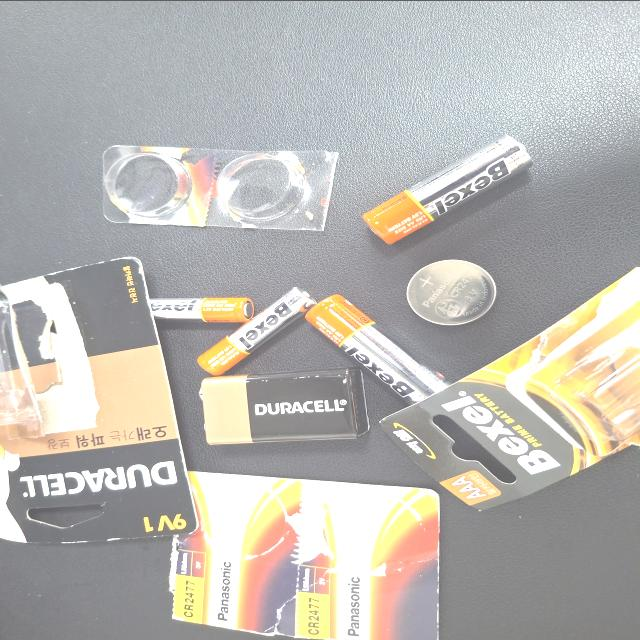9V: (263, 311, 363, 436)
AA: (318, 390, 462, 496), (530, 434, 640, 559)
AAA: (354, 308, 472, 396), (424, 274, 458, 350)
COIN: (422, 466, 508, 532)
